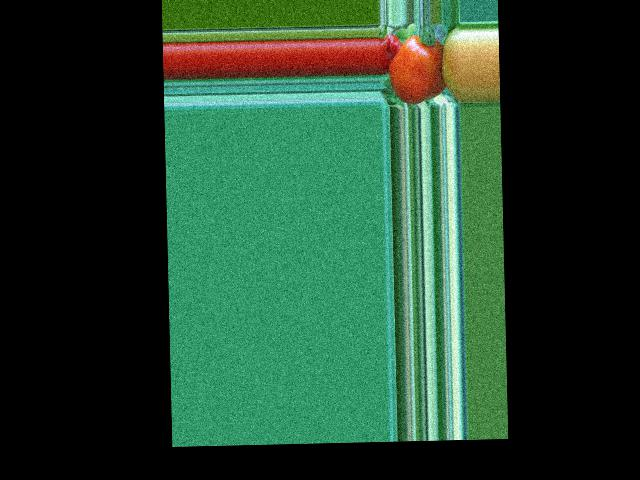tomato: (388, 34, 443, 104)
